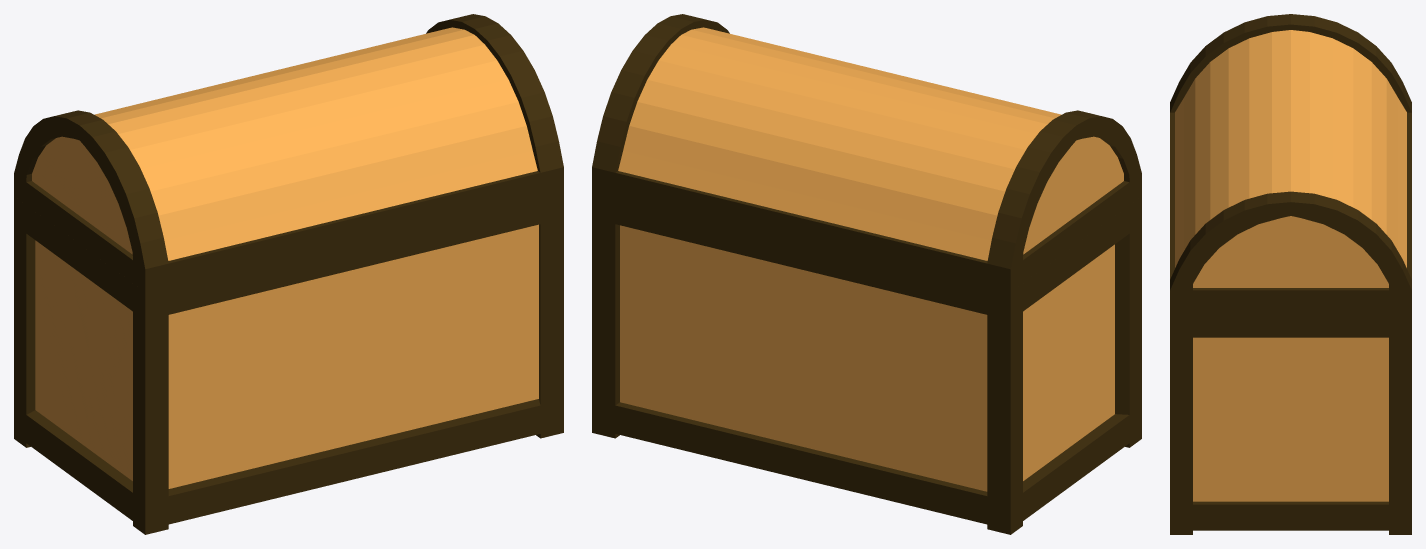
The model's file is Chest.fbx.
3 renders of one model, left to right at view 1: azimuth 30°, elevation 25°; view 2: azimuth 150°, elevation 25°; view 3: azimuth 270°, elevation 25°, orthographic. The views are drawn at different scales.
Parts seen in each view (by area): view 1: Cube, Cylinder; view 2: Cube, Cylinder; view 3: Cylinder, Cube.
Boxes of the visible parts, box(x1,y1,x2,y2) form: Cube: box(14, 190, 563, 534); Cylinder: box(14, 14, 563, 292); Cube: box(592, 190, 1141, 534); Cylinder: box(592, 14, 1141, 292); Cylinder: box(1170, 14, 1411, 311); Cube: box(1170, 311, 1411, 534).
Size of the model in its own units: 368 by 304 by 200.
